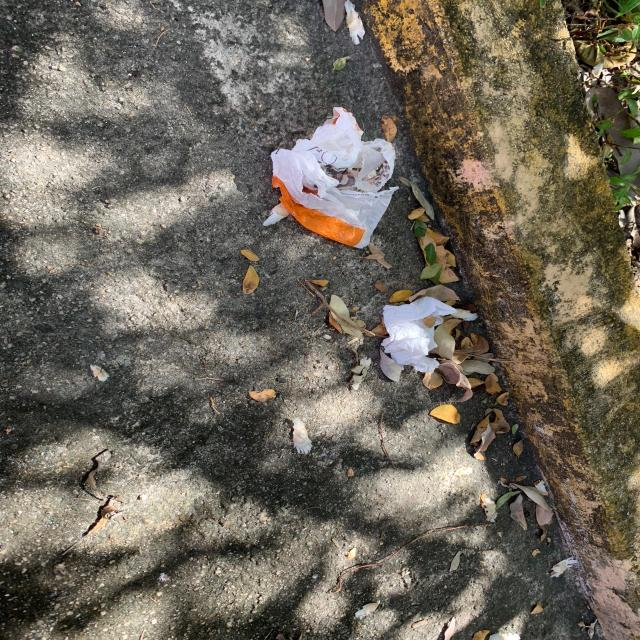litter: (271, 108, 399, 248), (380, 297, 457, 370)
